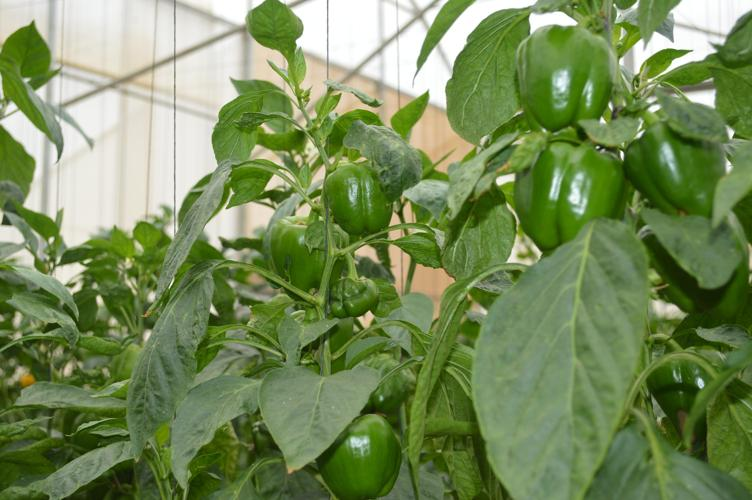BellPepper: (509, 144, 619, 244), (512, 23, 607, 126), (645, 225, 735, 322), (629, 120, 720, 215), (306, 416, 397, 493), (640, 346, 720, 429), (264, 210, 335, 289), (321, 168, 400, 230)
